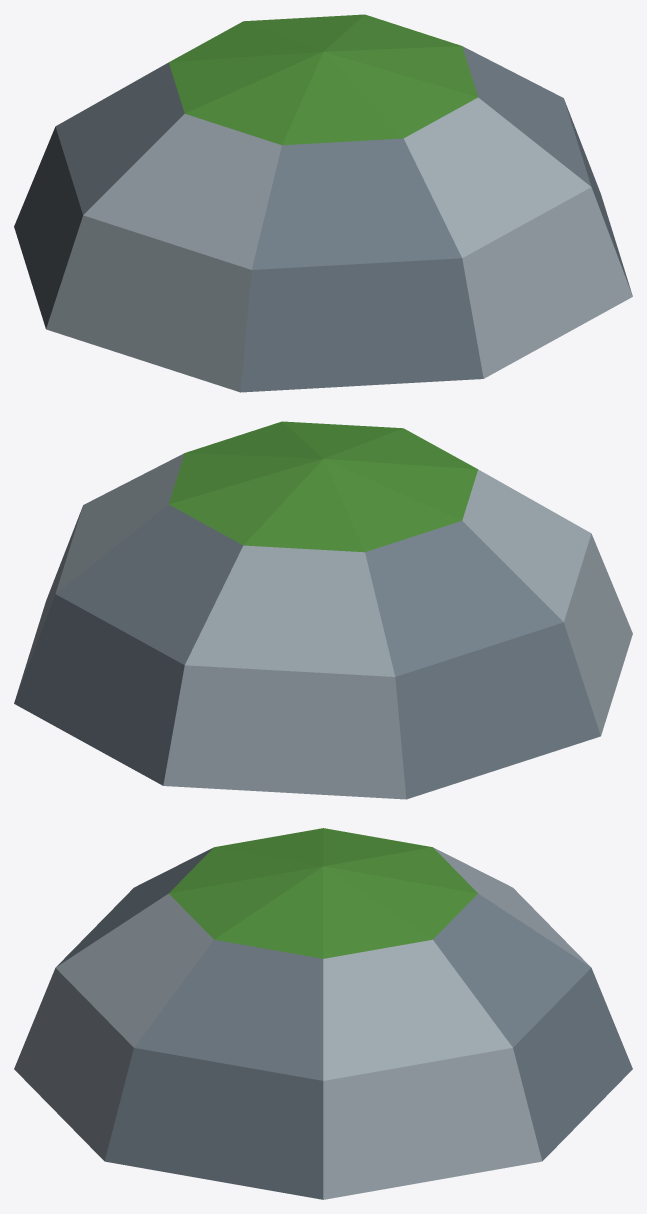
File: rock.glb
The picture shows the model from 3 angles, top to bottom: view 1: azimuth 30°, elevation 25°; view 2: azimuth 150°, elevation 25°; view 3: azimuth 270°, elevation 25°; orthographic projection. The views are drawn at different scales.
Parts seen in each view (by area): view 1: Rock_MESH; view 2: Rock_MESH; view 3: Rock_MESH.
Boxes of the visible parts, box(x1,y1,x2,y2) form: Rock_MESH: box(14, 14, 632, 392); Rock_MESH: box(14, 421, 632, 799); Rock_MESH: box(14, 828, 632, 1199).
Size of the model in its own units: 2.6 by 0.94 by 2.6.
Materials: 1 (1 with a texture image).
